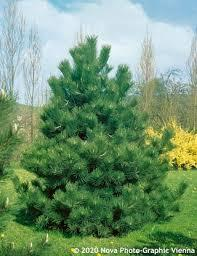tree: (18, 31, 191, 238)
